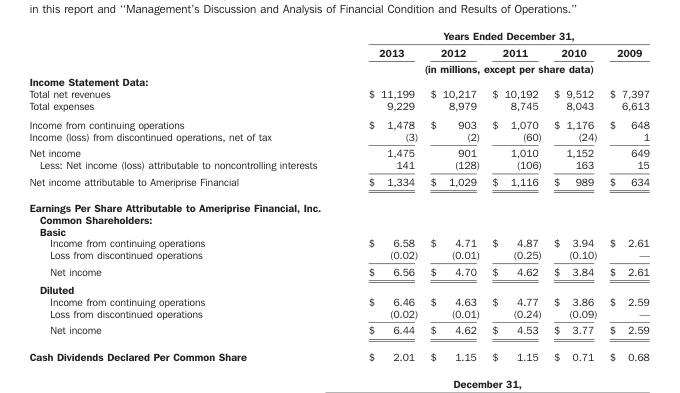table: (28, 28, 648, 362)
table column: (28, 28, 342, 362), (342, 28, 423, 362), (423, 28, 485, 362), (485, 28, 547, 362), (547, 28, 602, 362), (602, 28, 648, 362)
table column header: (28, 28, 648, 75)
table projected row header: (28, 194, 648, 224), (28, 280, 648, 295), (28, 75, 648, 87), (28, 224, 648, 236)
table row: (28, 194, 648, 224), (28, 172, 648, 194), (28, 321, 648, 342), (28, 342, 648, 362), (28, 262, 648, 280), (28, 43, 648, 60), (28, 114, 648, 130), (28, 28, 648, 43), (28, 60, 648, 75), (28, 99, 648, 114), (28, 280, 648, 295), (28, 130, 648, 144), (28, 144, 648, 158), (28, 158, 648, 172), (28, 248, 648, 262), (28, 307, 648, 321), (28, 75, 648, 87), (28, 87, 648, 99), (28, 224, 648, 236), (28, 236, 648, 248), (28, 295, 648, 307)
table spanning cell: (342, 28, 648, 43), (342, 60, 648, 75)
